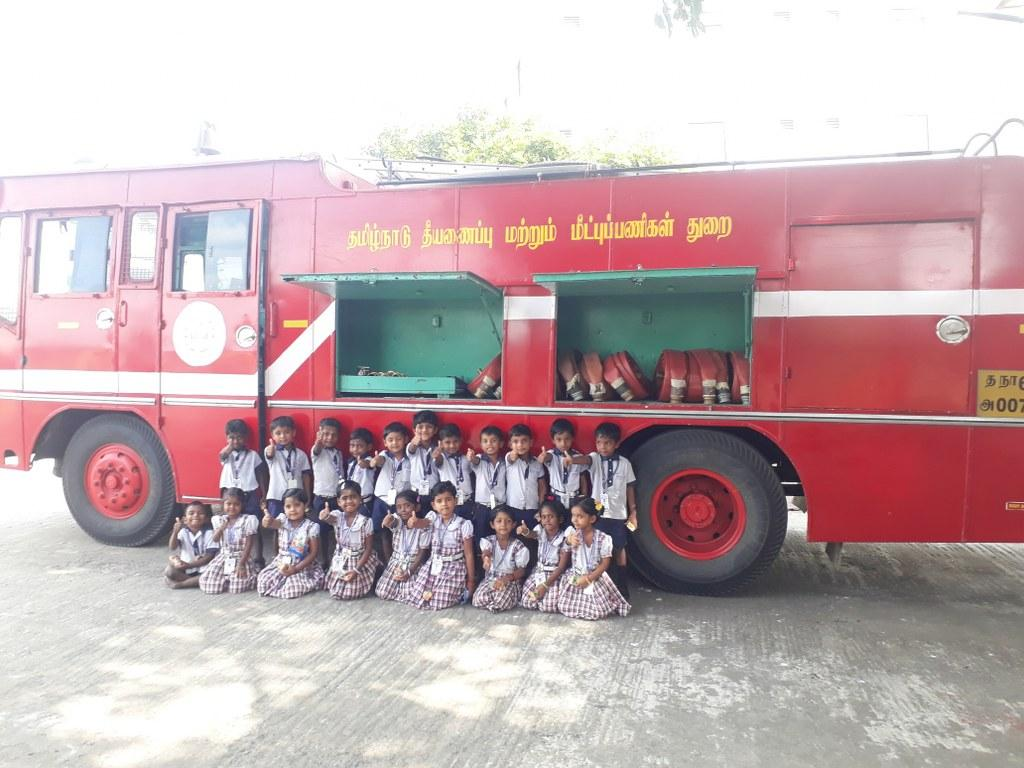Fire-engine: (10, 166, 1024, 622)
